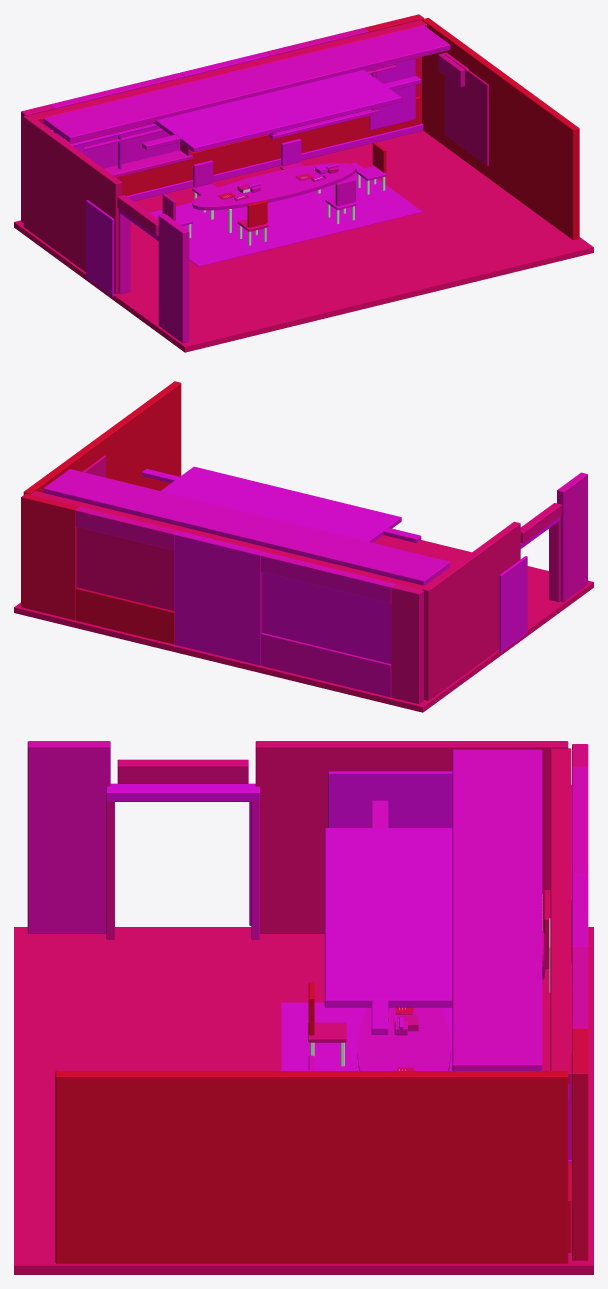
File: court_chapter_14.glb
The picture shows the model from 3 angles, top to bottom: view 1: azimuth 30°, elevation 25°; view 2: azimuth 150°, elevation 25°; view 3: azimuth 270°, elevation 25°; orthographic projection. The views are drawn at different scales.
Parts seen in each view (by area): view 1: Floor, WallRight, CeilingRibbon, WallLeftRear, ConferenceCarpet, MeetingCeilingRaft, Wainscot, WallLeftFront, CouncilTable, AcousticSide_1, CorniceRear, OpenDoorLeaf (+20 smaller); view 2: CeilingRibbon, WallBackPier_1, WallLeftRear, Glazing_0, WallRight, Floor, MeetingCeilingRaft, WallBackPier_end, Glazing_1, WallBackLow_0, WallBackPier_0, WallBackLow_1 (+7 smaller); view 3: WallRight, Floor, CeilingRibbon, MeetingCeilingRaft, WallLeftRear, WallLeftFront, CorniceRear, AcousticSide_-1, CouncilTable, ConferenceCarpet, WallBackPier_end, DoorLintel (+7 smaller).
Boxes of the visible parts, bbox=[...] form: Floor: bbox=[14, 131, 593, 352]; WallRight: bbox=[422, 18, 579, 240]; CeilingRibbon: bbox=[43, 25, 450, 142]; WallLeftRear: bbox=[23, 115, 122, 294]; ConferenceCarpet: bbox=[150, 162, 422, 266]; MeetingCeilingRaft: bbox=[153, 70, 401, 152]; Wainscot: bbox=[116, 96, 420, 195]; WallLeftFront: bbox=[158, 214, 189, 343]; CouncilTable: bbox=[192, 163, 356, 232]; AcousticSide_1: bbox=[444, 53, 488, 165]; CorniceRear: bbox=[31, 20, 426, 123]; OpenDoorLeaf: bbox=[86, 200, 114, 296]; CeilingRibbon: bbox=[43, 469, 450, 585]; WallBackPier_1: bbox=[174, 531, 264, 665]; WallLeftRear: bbox=[422, 521, 520, 700]; Glazing_0: bbox=[262, 572, 391, 663]; WallRight: bbox=[23, 381, 181, 494]; Floor: bbox=[14, 535, 593, 712]; MeetingCeilingRaft: bbox=[161, 466, 401, 542]; WallBackPier_end: bbox=[21, 493, 79, 620]; Glazing_1: bbox=[77, 527, 174, 610]; WallBackLow_0: bbox=[261, 633, 391, 697]; WallBackPier_0: bbox=[391, 584, 423, 704]; WallBackLow_1: bbox=[75, 587, 174, 644]; WallRight: bbox=[55, 1071, 568, 1263]; Floor: bbox=[14, 927, 593, 1274]; CeilingRibbon: bbox=[452, 749, 542, 1070]; MeetingCeilingRaft: bbox=[324, 828, 452, 1007]; WallLeftRear: bbox=[255, 741, 568, 933]; WallLeftFront: bbox=[27, 741, 110, 933]; CorniceRear: bbox=[550, 748, 571, 1083]; AcousticSide_-1: bbox=[328, 771, 452, 827]; CouncilTable: bbox=[357, 1007, 450, 1070]; ConferenceCarpet: bbox=[281, 1002, 452, 1070]; WallBackPier_end: bbox=[572, 1028, 588, 1260]; DoorLintel: bbox=[117, 759, 248, 783].
Size of the model in its own units: 11.7 by 3.18 by 8.4.
